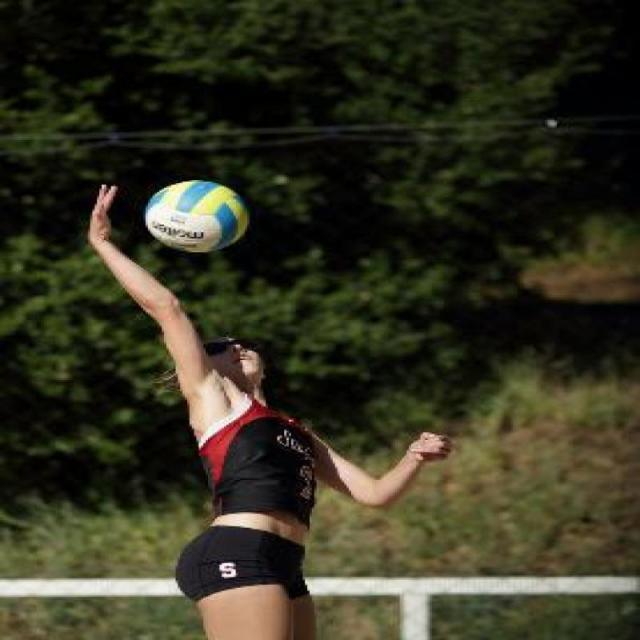volleyball: (143, 178, 250, 254)
